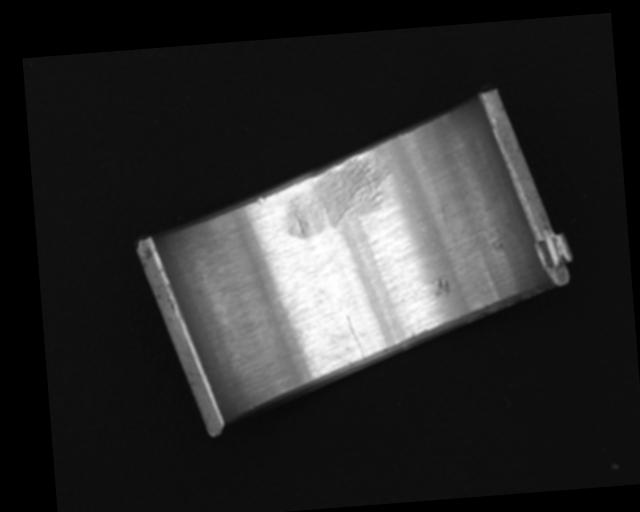bruise: (433, 276, 451, 299), (256, 195, 266, 205)
nick: (344, 313, 366, 362)
scratch: (278, 151, 396, 240)
